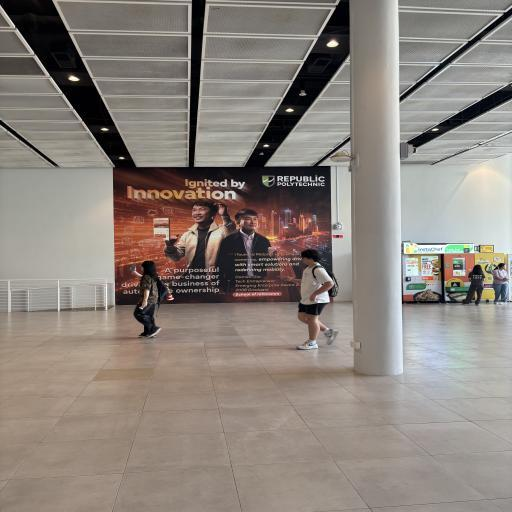person_left: (272, 247, 348, 354), (112, 254, 174, 346)
